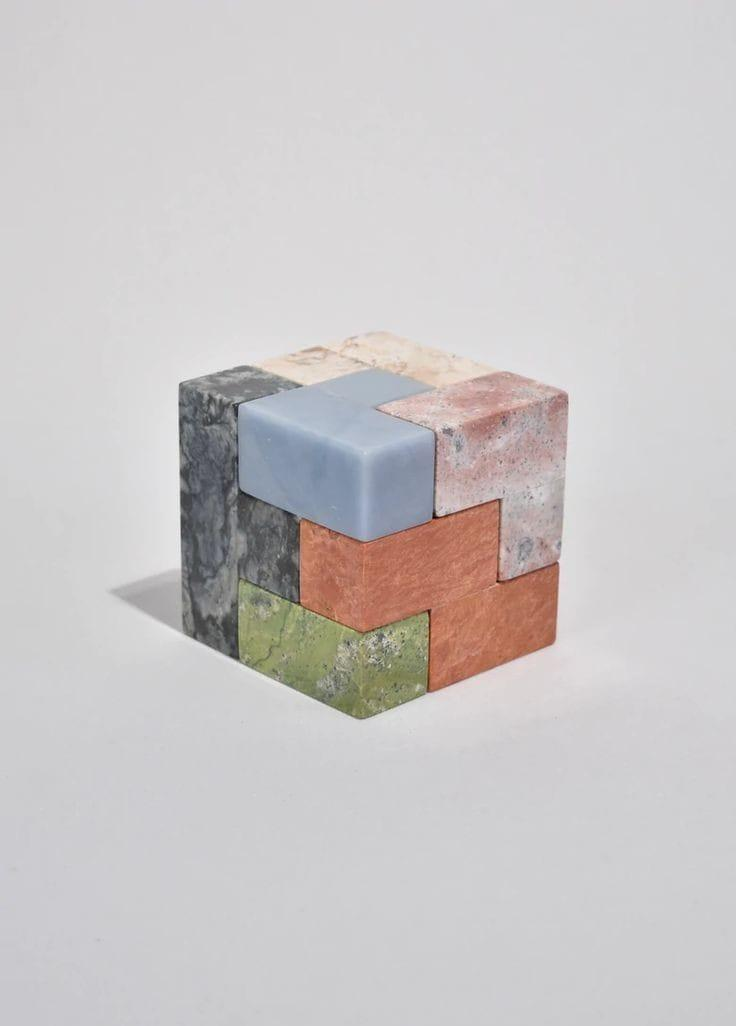cubos: (165, 312, 588, 730)
